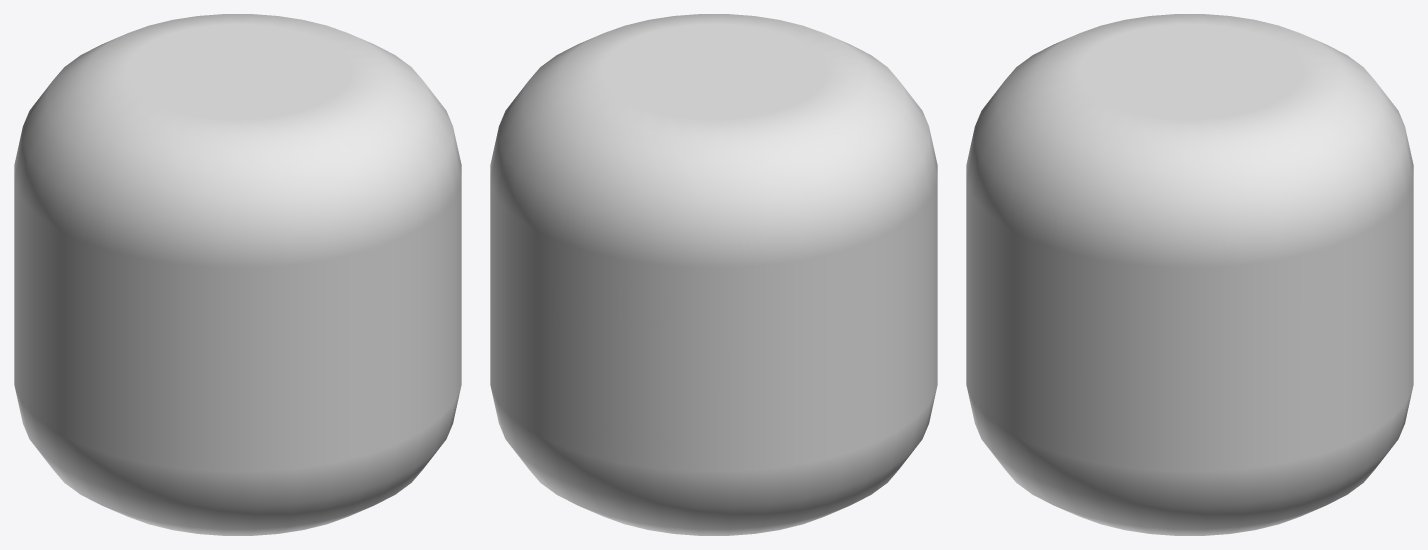
Rendered from 13-long-low-quality-derpy-face-face.glb.
3 views of the same model, side by side, from view 1: azimuth 30°, elevation 25°; view 2: azimuth 150°, elevation 25°; view 3: azimuth 270°, elevation 25° (orthographic).
Visible parts, largest first — view 1: 13-long-low-quality-derpy-face-face; view 2: 13-long-low-quality-derpy-face-face; view 3: 13-long-low-quality-derpy-face-face.
Part boxes in pixels (bbox=[...]): 13-long-low-quality-derpy-face-face: bbox=[14, 14, 461, 535]; 13-long-low-quality-derpy-face-face: bbox=[490, 14, 937, 535]; 13-long-low-quality-derpy-face-face: bbox=[966, 14, 1413, 535].
Bounding box in the file's own units: 1.2 × 1.2 × 1.2.
Materials: 1 (1 with a texture image).
